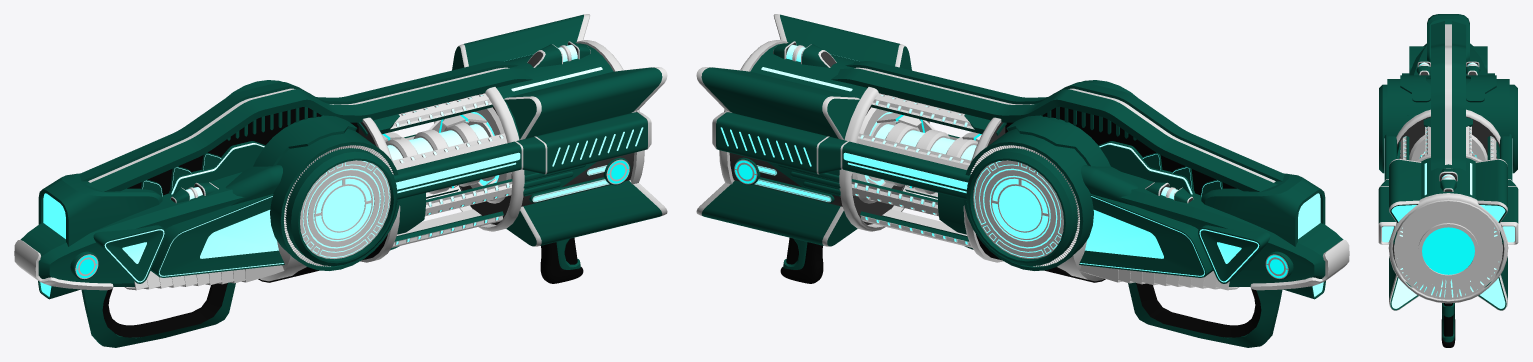
Rendered from Super Shooter.fbx.
3 renders of one model, left to right at view 1: azimuth 30°, elevation 25°; view 2: azimuth 150°, elevation 25°; view 3: azimuth 270°, elevation 25°, orthographic. The views are drawn at different scales.
Visible parts, largest first — view 1: Cube.005, Plane.001, Cylinder.006, Cube.008, Cube.023, Cube.003, Cube.026, Cube.027, Cylinder.009, Cylinder.002, Cube.025, Cylinder.001 (+26 smaller); view 2: Cube.005, Plane.001, Cylinder.006, Cube.008, Cube.023, Cube.003, Cube.026, Cube.027, Cylinder.009, Cylinder.002, Cube.025, Cylinder.001 (+26 smaller); view 3: Cylinder, Plane.001, Cube.005, Cylinder.009, Circle, Cube.008, Cylinder.001, Cylinder.013, Cylinder.006, Cylinder.002, Cube.003, fdsfsd.001 (+15 smaller).
Part boxes in pixels (x1,y1,x2,y2): Cube.005: (452, 14, 667, 246); Plane.001: (79, 61, 532, 191); Cylinder.006: (285, 148, 397, 266); Cube.008: (393, 102, 647, 199); Cube.023: (150, 194, 284, 277); Cube.003: (381, 93, 512, 247); Cube.026: (20, 172, 243, 286); Cube.027: (38, 173, 162, 246); Cylinder.009: (226, 80, 400, 270); Cylinder.002: (496, 43, 613, 196); Cube.025: (93, 225, 165, 283); Cylinder.001: (434, 40, 644, 231); Cube.005: (696, 14, 911, 246); Plane.001: (831, 61, 1284, 191); Cylinder.006: (966, 148, 1078, 266); Cube.008: (716, 102, 970, 199); Cube.023: (1079, 194, 1213, 277); Cube.003: (851, 93, 983, 247); Cube.026: (1120, 172, 1343, 286); Cube.027: (1201, 173, 1325, 246); Cylinder.009: (963, 80, 1137, 270); Cylinder.002: (750, 43, 867, 196); Cube.025: (1198, 225, 1270, 283); Cylinder.001: (719, 40, 929, 231); Cylinder: (1394, 199, 1502, 299); Plane.001: (1431, 21, 1465, 170); Cube.005: (1389, 158, 1507, 310); Cylinder.009: (1387, 79, 1509, 136); Circle: (1418, 223, 1478, 278); Cube.008: (1378, 134, 1518, 244); Cylinder.001: (1388, 154, 1508, 303); Cylinder.013: (1400, 75, 1496, 102); Cylinder.006: (1379, 84, 1517, 173); Cylinder.002: (1421, 158, 1475, 198); Cube.003: (1400, 126, 1496, 159); fdsfsd.001: (1397, 116, 1499, 158).
Size of the model in its own units: 1334 by 547 by 375.
